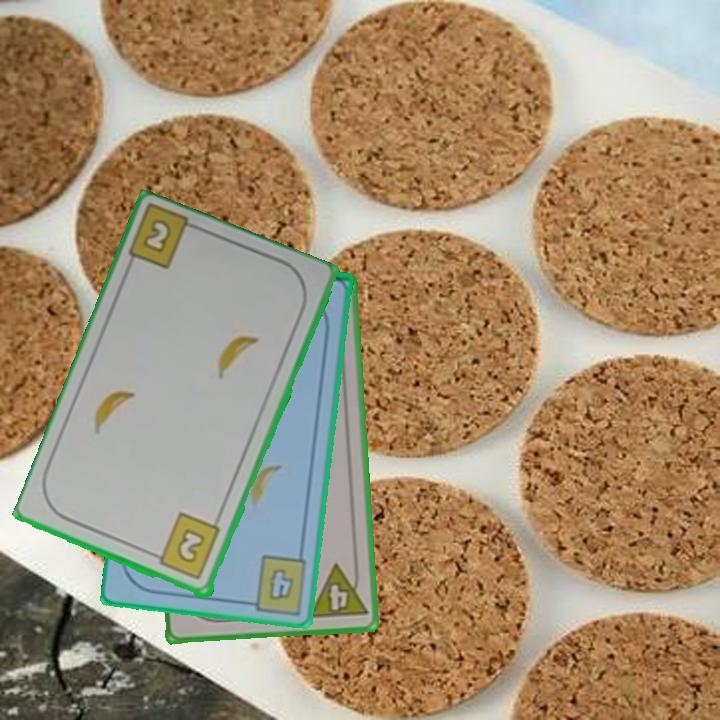2b: (148, 510, 223, 583), (139, 216, 175, 257)
4b: (241, 552, 310, 615)
4p: (305, 560, 370, 622)
